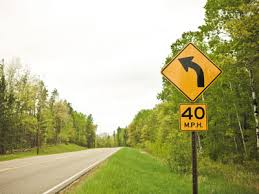curveLeft: (161, 41, 225, 102)
